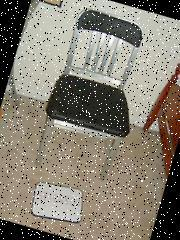Silla: (35, 8, 155, 188)
